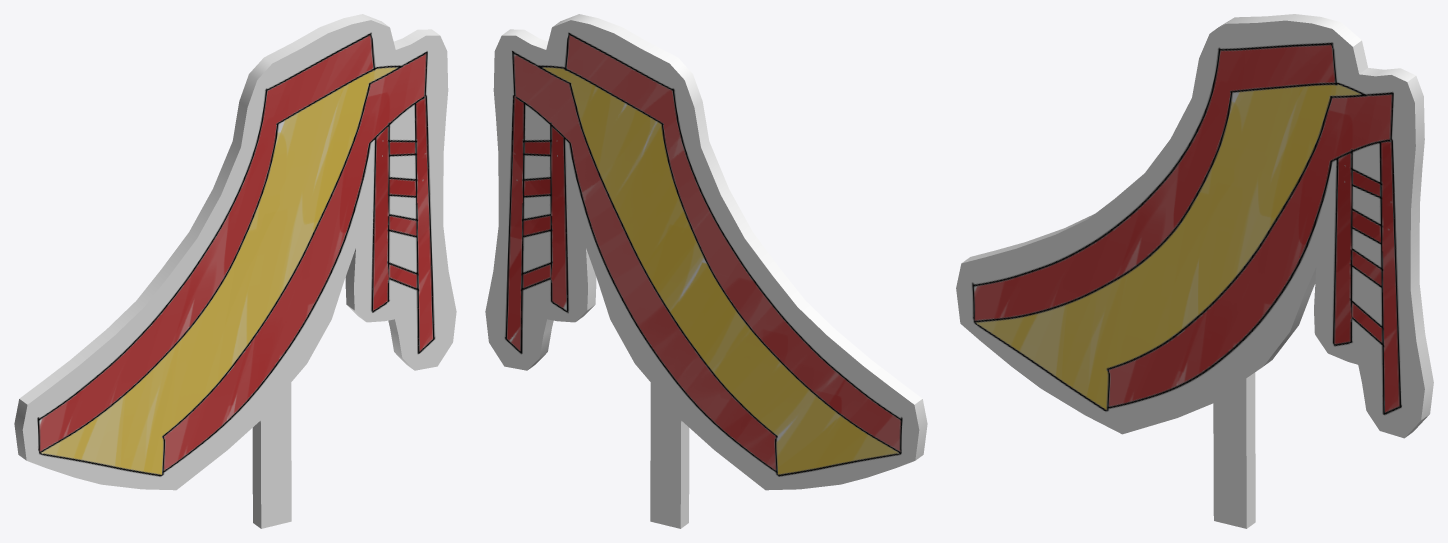
The model's file is slide.fbx.
3 renders of one model, left to right at view 1: azimuth 30°, elevation 25°; view 2: azimuth 150°, elevation 25°; view 3: azimuth 330°, elevation 25°, orthographic. The views are drawn at different scales.
Parts seen in each view (by area): view 1: slide; view 2: slide; view 3: slide.
Boxes of the visible parts, left/top/right/bottom form: slide: left=14, top=14, right=456, bottom=528; slide: left=485, top=14, right=927, bottom=528; slide: left=956, top=14, right=1433, bottom=528.
Bounding box in the file's own units: 24.63 × 26.18 × 0.8179.
